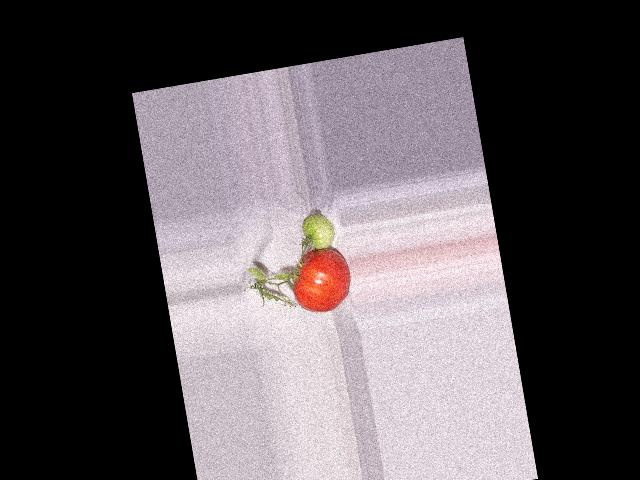tomato: (287, 243, 355, 316)
